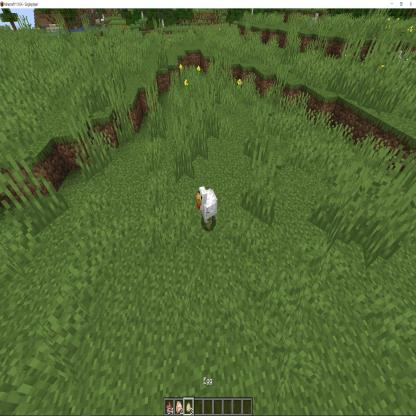minecraft-pigs: (194, 184, 219, 231)
